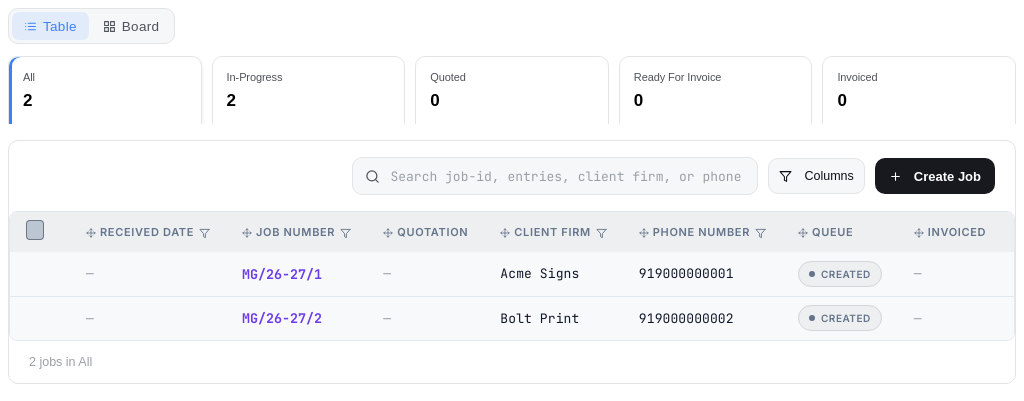
Test: the Table / Board switch › swaps the table and its category filters for the grid
The image size is (1024, 401).
Check: the button "MG/26-27/1" is shown, box [242,265,322,283]
Click the tab "Board" at (131, 26), box [91,12,171,40]
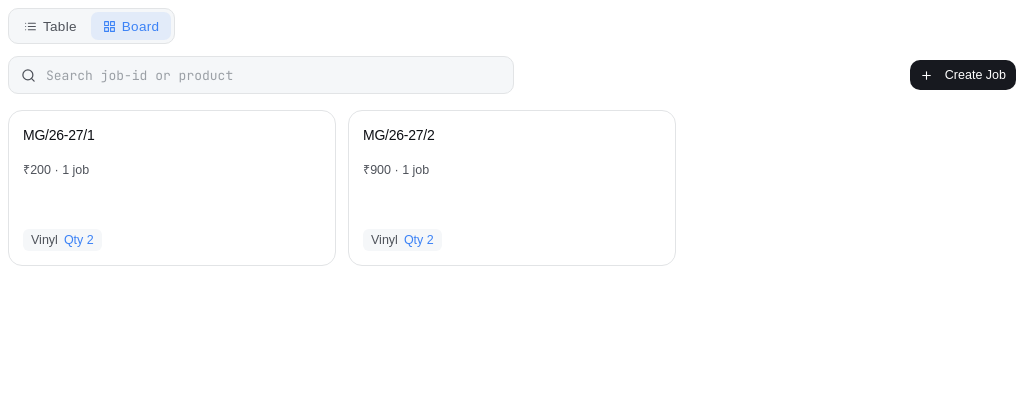
Check: the text "MG/26-27/1" is shown, box [23,125,94,145]
Check: the element with class "stats-compact" is gone
Check: the field with placeholder "Search job-id or product" is shown, box [44,66,501,84]
